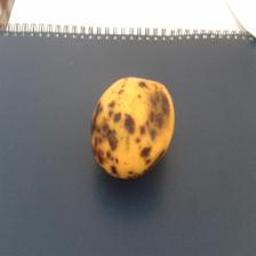Mango Rotten: (83, 58, 175, 186)
